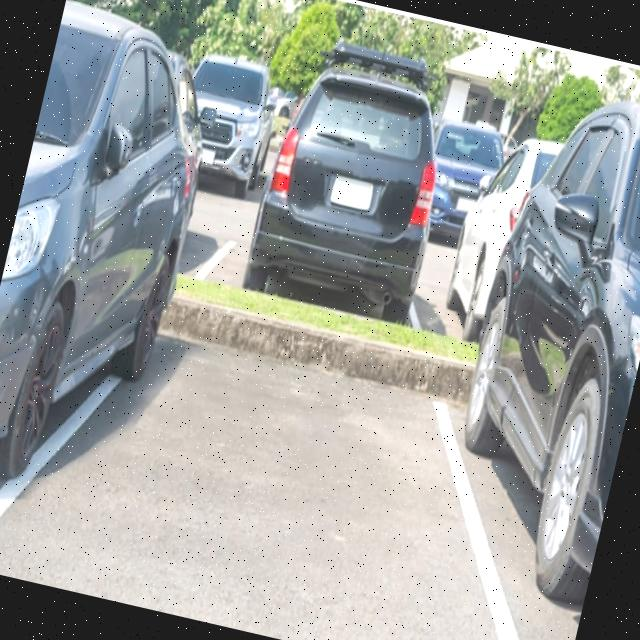empty: (0, 329, 508, 640)
